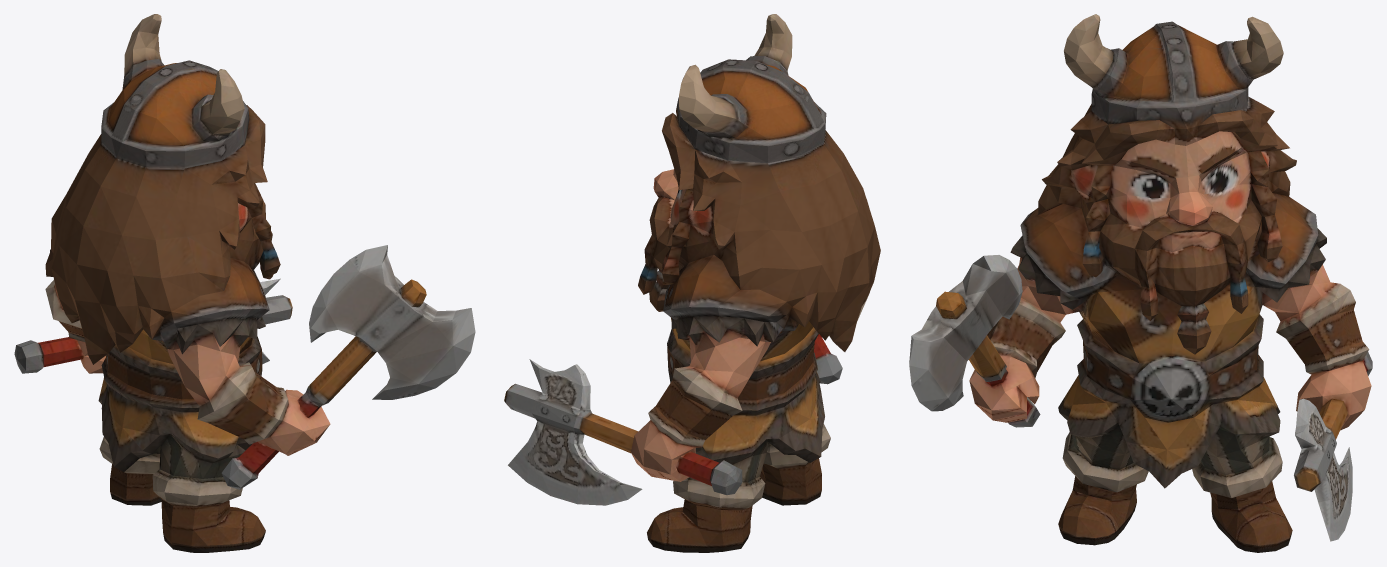
The model's file is player.glb.
3 views of the same model, side by side, from view 1: azimuth 30°, elevation 25°; view 2: azimuth 150°, elevation 25°; view 3: azimuth 270°, elevation 25° (orthographic). The views are drawn at different scales.
Parts seen in each view (by area): view 1: tripo_node_a09c5f11-0b1d-4a20-bcf7-6ca53e022287; view 2: tripo_node_a09c5f11-0b1d-4a20-bcf7-6ca53e022287; view 3: tripo_node_a09c5f11-0b1d-4a20-bcf7-6ca53e022287.
Part boxes in pixels (box(x1,y1,x2,y2)): tripo_node_a09c5f11-0b1d-4a20-bcf7-6ca53e022287: box(14, 14, 475, 552); tripo_node_a09c5f11-0b1d-4a20-bcf7-6ca53e022287: box(504, 14, 880, 552); tripo_node_a09c5f11-0b1d-4a20-bcf7-6ca53e022287: box(909, 14, 1372, 552).
Bounding box in the file's own units: 0.6387 × 0.998 × 0.8145.
Materials: 1 (1 with a texture image).
